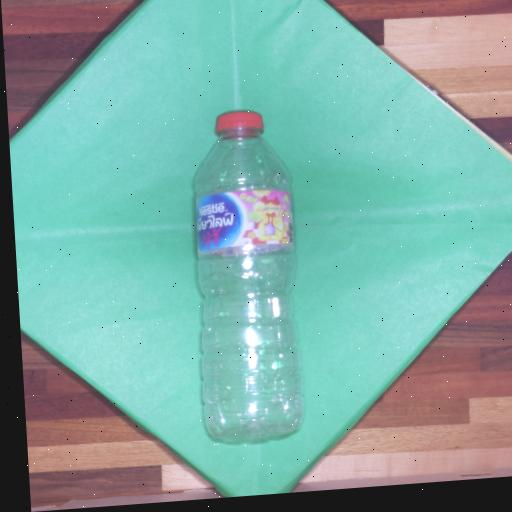bottle: (159, 88, 345, 464)
